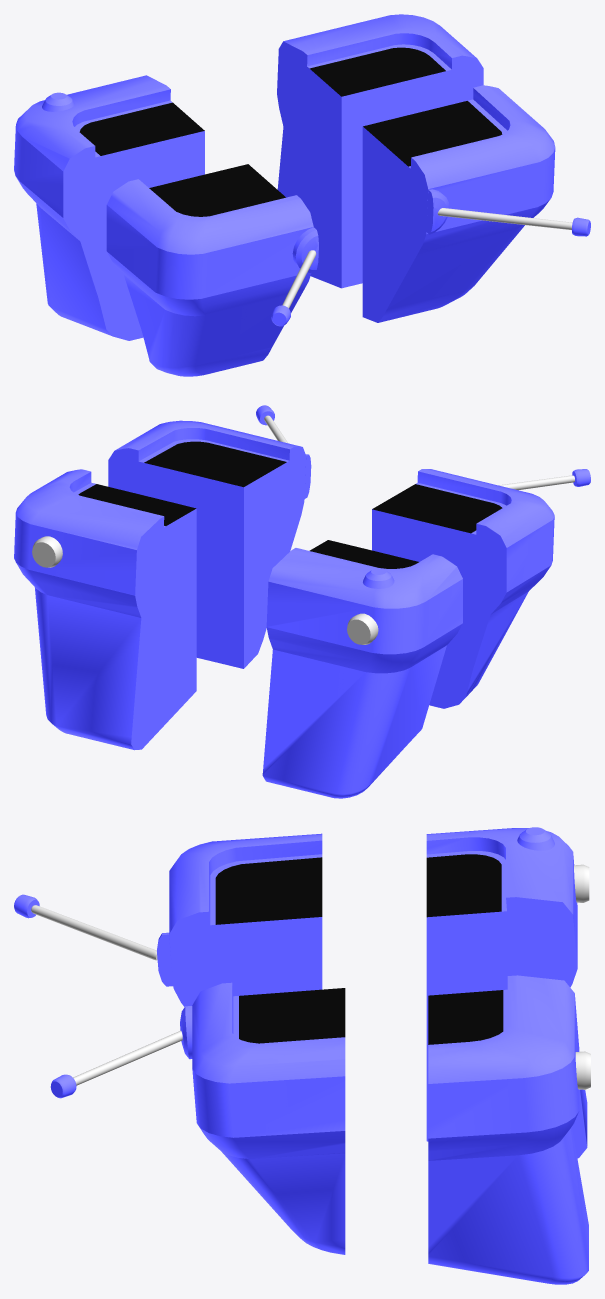
Rendered from item_G.fbx.
3 views of the same model, one above another, from view 1: azimuth 30°, elevation 25°; view 2: azimuth 150°, elevation 25°; view 3: azimuth 270°, elevation 25° (orthographic). The views are drawn at different scales.
Parts seen in each view (by area): view 1: itemG_pCylinder125.001, itemG_pCylinder125.002, itemG_pCylinder125, itemG_pCylinder125.003; view 2: itemG_pCylinder125, itemG_pCylinder125.003, itemG_pCylinder125.001, itemG_pCylinder125.002; view 3: itemG_pCylinder125, itemG_pCylinder125.001, itemG_pCylinder125.002, itemG_pCylinder125.003.
Part boxes in pixels (x1,y1,x2,y2): itemG_pCylinder125.001: [362, 85, 590, 322]; itemG_pCylinder125.002: [106, 164, 318, 376]; itemG_pCylinder125: [277, 14, 483, 288]; itemG_pCylinder125.003: [14, 75, 204, 340]; itemG_pCylinder125: [14, 469, 196, 750]; itemG_pCylinder125.003: [262, 540, 462, 798]; itemG_pCylinder125.001: [108, 405, 311, 668]; itemG_pCylinder125.002: [372, 469, 590, 708]; itemG_pCylinder125: [428, 975, 590, 1284]; itemG_pCylinder125.001: [50, 982, 345, 1254]; itemG_pCylinder125.002: [14, 833, 322, 1006]; itemG_pCylinder125.003: [426, 827, 589, 1158].
Size of the model in its own units: 555 by 296 by 561.
